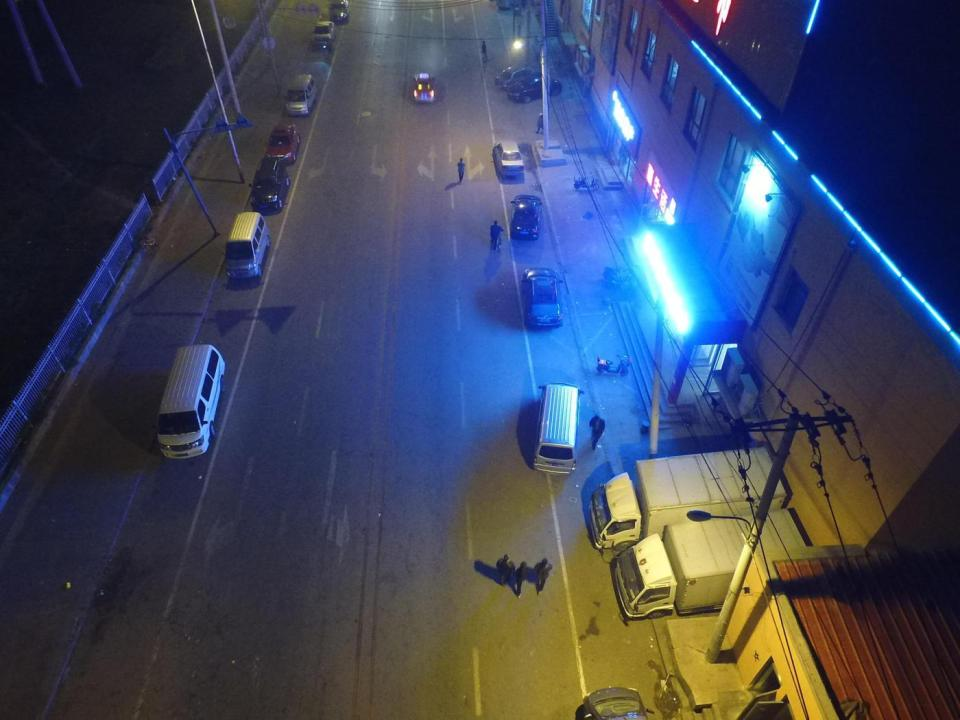car: (520, 268, 564, 327), (510, 74, 562, 104), (265, 124, 300, 164), (510, 195, 543, 237), (493, 142, 524, 175), (495, 66, 537, 88), (312, 20, 336, 47), (414, 72, 436, 101), (329, 1, 349, 22)
truck: (614, 509, 812, 618), (591, 445, 789, 551)
van: (154, 344, 225, 460), (532, 380, 586, 474), (223, 212, 271, 278), (250, 156, 290, 208), (283, 74, 318, 115)
